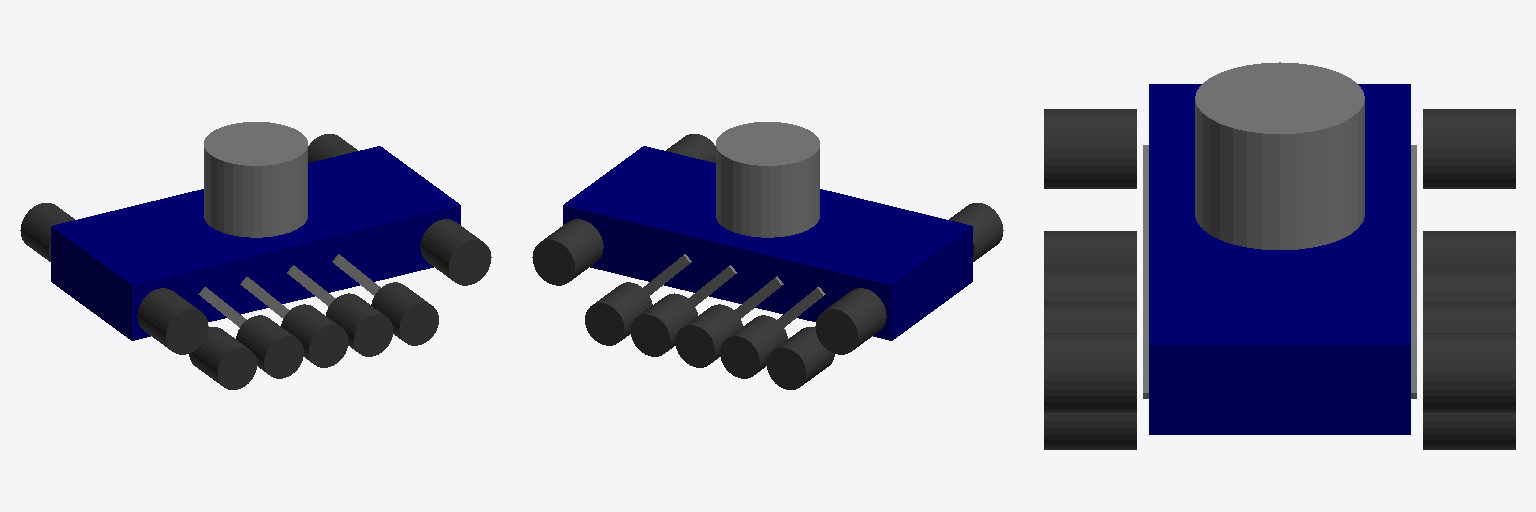
--- What the picture shows (computed from the rendered views, not written in the file) ---
3 views of the same robot in one strip: view 1: azimuth 30°, elevation 25°; view 2: azimuth 150°, elevation 25°; view 3: azimuth 270°, elevation 25° (orthographic).
Robot: uWABA — 27 links, 26 joints (10 revolute, 2 continuous, 14 fixed); root link base_footprint; default pose: all joints at 0.
Links seen in each view (by area): view 1: base_link, LiDAR_link, right_wheel.006_link, right_wheel_sprocket_link, right_wheel.004_link, right_wheel.005_link, right_wheel.001_link, right_wheel.002_link, right_wheel.003_link, left_wheel.006_link, left_wheel_sprocket_link, right_small_wheels_frame.002_link (+3 smaller); view 2: base_link, LiDAR_link, left_wheel.006_link, left_wheel_sprocket_link, left_wheel.004_link, left_wheel.005_link, left_wheel.001_link, left_wheel.002_link, left_wheel.003_link, right_wheel.006_link, right_wheel_sprocket_link, left_small_wheels_frame.002_link (+3 smaller); view 3: base_link, LiDAR_link, left_wheel.006_link, left_wheel_sprocket_link, right_wheel.006_link, right_wheel_sprocket_link, left_wheel.001_link, left_wheel.005_link, right_wheel.001_link, right_wheel.005_link, left_wheel.004_link, right_wheel.004_link (+4 smaller).
Boxes of the visible links, box(x1,y1,x2,y2) form: base_link: box(51, 146, 460, 340); LiDAR_link: box(204, 122, 307, 237); right_wheel.006_link: box(137, 288, 208, 354); right_wheel_sprocket_link: box(420, 219, 491, 285); right_wheel.004_link: box(236, 315, 303, 378); right_wheel.005_link: box(189, 327, 256, 389); right_wheel.001_link: box(371, 282, 438, 345); right_wheel.002_link: box(326, 293, 392, 356); right_wheel.003_link: box(281, 304, 348, 367); left_wheel.006_link: box(20, 203, 74, 261); left_wheel_sprocket_link: box(308, 134, 357, 162); right_small_wheels_frame.002_link: box(240, 276, 289, 318); base_link: box(563, 146, 972, 340); LiDAR_link: box(716, 122, 819, 237); left_wheel.006_link: box(815, 288, 886, 354); left_wheel_sprocket_link: box(532, 219, 603, 285); left_wheel.004_link: box(720, 315, 787, 378); left_wheel.005_link: box(767, 327, 834, 389); left_wheel.001_link: box(585, 282, 652, 345); left_wheel.002_link: box(631, 293, 697, 356); left_wheel.003_link: box(675, 304, 742, 367); right_wheel.006_link: box(949, 203, 1003, 261); right_wheel_sprocket_link: box(666, 134, 715, 162); left_small_wheels_frame.002_link: box(734, 276, 783, 318); base_link: box(1149, 84, 1410, 434); LiDAR_link: box(1195, 62, 1364, 249); left_wheel.006_link: box(1423, 109, 1515, 188); left_wheel_sprocket_link: box(1423, 333, 1515, 412); right_wheel.006_link: box(1044, 109, 1136, 188); right_wheel_sprocket_link: box(1044, 333, 1136, 412); left_wheel.001_link: box(1423, 413, 1515, 449); left_wheel.005_link: box(1423, 231, 1515, 267); right_wheel.001_link: box(1044, 413, 1136, 449); right_wheel.005_link: box(1044, 231, 1136, 267); left_wheel.004_link: box(1423, 268, 1515, 302); right_wheel.004_link: box(1044, 268, 1136, 302).
Bounding box of the posed robot: 0.248 × 0.1896 × 0.1226 m (x, y, z).
Geometry: primitives only (box / cylinder / sphere), no mesh files.

The robot description file, URDF, robot "uWABA":
<robot name="uWABA" version="1.0">
<!-- THIS IS SOME CHANGES -->

  <material name="grey">
    <color rgba="0.5 0.5 0.5 1" />
  </material>

  <material name="blue">
    <color rgba="0 0 0.5 1" />
  </material>

  <material name="black">
    <color rgba="0.25 0.25 0.25 1" />
  </material>

  <joint name="LiDAR_base_joint" type="fixed">
    <origin rpy="0.00000 0.00000 0.00000" xyz="-0.00000 -0.00000 0.04010" />
    <parent link="base_link" />
    <child link="LiDAR_link" />
  </joint>
  <joint name="base_footprint_link_joint" type="fixed">
    <origin rpy="0.00000 0.00000 0.00000" xyz="0.00000 0.00000 0.03318" />
    <parent link="base_footprint" />
    <child link="base_link" />
  </joint>
  <joint name="left_frame_001_base_joint" type="revolute">
    <limit lower="-0.08727" upper="0.08727" effort="0.00000" velocity="0.00000" />
    <origin rpy="0.00000 0.00000 0.00000" xyz="-0.05400 0.05290 0.00682" />
    <parent link="base_link" />
    <child link="left_small_wheels_frame.001_link" />
    <axis xyz="0.00000 1.00000 0.00000" />
  </joint>
  <joint name="left_frame_002_base_joint" type="revolute">
    <limit lower="-0.08727" upper="0.08727" effort="0.00000" velocity="0.00000" />
    <origin rpy="0.00000 0.00000 0.00000" xyz="-0.02250 0.05290 0.00682" />
    <parent link="base_link" />
    <child link="left_small_wheels_frame.002_link" />
    <axis xyz="0.00000 1.00000 0.00000" />
  </joint>
  <joint name="left_frame_003_base_joint" type="revolute">
    <limit lower="-0.08727" upper="0.08727" effort="0.00000" velocity="0.00000" />
    <origin rpy="0.00000 0.00000 0.00000" xyz="0.01250 0.05290 0.00682" />
    <parent link="base_link" />
    <child link="left_small_wheels_frame.003_link" />
    <axis xyz="0.00000 1.00000 0.00000" />
  </joint>
  <joint name="left_frame_004_base_joint" type="revolute">
    <limit lower="-0.08727" upper="0.08727" effort="0.00000" velocity="0.00000" />
    <origin rpy="0.00000 0.00000 0.00000" xyz="0.04659 0.05290 0.00682" />
    <parent link="base_link" />
    <child link="left_small_wheels_frame.004_link" />
    <axis xyz="0.00000 1.00000 0.00000" />
  </joint>
  <joint name="left_frame_base_joint" type="revolute">
    <limit lower="-0.08727" upper="0.08727" effort="0.00000" velocity="0.00000" />
    <origin rpy="0.00000 0.00000 0.00000" xyz="-0.09000 0.05290 0.00682" />
    <parent link="base_link" />
    <child link="left_small_wheels_frame_link" />
    <axis xyz="0.00000 1.00000 0.00000" />
  </joint>
  <joint name="left_small_wheel_001_joint" type="fixed">
    <origin rpy="0.00000 0.00000 0.00000" xyz="0.02164 0.00480 -0.02274" />
    <parent link="left_small_wheels_frame.004_link" />
    <child link="left_wheel.001_link" />
  </joint>
  <joint name="left_small_wheel_002_joint" type="fixed">
    <origin rpy="0.00000 0.00000 0.00000" xyz="0.02134 0.00480 -0.02274" />
    <parent link="left_small_wheels_frame.003_link" />
    <child link="left_wheel.002_link" />
  </joint>
  <joint name="left_small_wheel_003_joint" type="fixed">
    <origin rpy="0.00000 0.00000 0.00000" xyz="0.02250 0.00480 -0.02274" />
    <parent link="left_small_wheels_frame.002_link" />
    <child link="left_wheel.003_link" />
  </joint>
  <joint name="left_small_wheel_004_joint" type="fixed">
    <origin rpy="0.00000 0.00000 0.00000" xyz="0.02043 0.00480 -0.02274" />
    <parent link="left_small_wheels_frame.001_link" />
    <child link="left_wheel.004_link" />
  </joint>
  <joint name="left_small_wheel_005_joint" type="fixed">
    <origin rpy="0.00000 0.00000 0.00000" xyz="0.02131 0.00480 -0.02274" />
    <parent link="left_small_wheels_frame_link" />
    <child link="left_wheel.005_link" />
  </joint>
  <joint name="left_sprocket_base_joint" type="continuous">
    <limit lower="0.00000" upper="0.00000" effort="0.00000" velocity="0.00000" />
    <origin rpy="0.00000 0.00000 0.00000" xyz="0.10655 0.05770 0.01951" />
    <parent link="base_link" />
    <child link="left_wheel_sprocket_link" />
    <axis xyz="0.00000 1.00000 0.00000" />
  </joint>
  <!-- <joint name="left_treads_base_joint" type="fixed">
    <origin rpy="0.00000 0.00000 0.00000" xyz="-0.00000 0.07658 0.03682" />
    <parent link="base_link" />
    <child link="left_bumped_treads_link" />
  </joint> -->
  <joint name="left_wheel_006_base_joint" type="fixed">
    <origin rpy="0.00000 0.00000 0.00000" xyz="-0.10655 0.05770 0.01951" />
    <parent link="base_link" />
    <child link="left_wheel.006_link" />
  </joint>
  <joint name="right_frame_001_base_joint" type="revolute">
    <limit lower="-0.08727" upper="0.08727" effort="0.00000" velocity="0.00000" />
    <origin rpy="0.00000 0.00000 0.00000" xyz="-0.05400 -0.05290 0.00682" />
    <parent link="base_link" />
    <child link="right_small_wheels_frame.001_link" />
    <axis xyz="0.00000 1.00000 0.00000" />
  </joint>
  <joint name="right_frame_002_base_joint" type="revolute">
    <limit lower="-0.08727" upper="0.08727" effort="0.00000" velocity="0.00000" />
    <origin rpy="0.00000 0.00000 0.00000" xyz="-0.02250 -0.05290 0.00682" />
    <parent link="base_link" />
    <child link="right_small_wheels_frame.002_link" />
    <axis xyz="0.00000 1.00000 0.00000" />
  </joint>
  <joint name="right_frame_003_base_joint" type="revolute">
    <limit lower="-0.08727" upper="0.08727" effort="0.00000" velocity="0.00000" />
    <origin rpy="0.00000 0.00000 0.00000" xyz="0.01250 -0.05290 0.00682" />
    <parent link="base_link" />
    <child link="right_small_wheels_frame.003_link" />
    <axis xyz="0.00000 1.00000 0.00000" />
  </joint>
  <joint name="right_frame_004_base_joint" type="revolute">
    <limit lower="-0.08727" upper="0.08727" effort="0.00000" velocity="0.00000" />
    <origin rpy="0.00000 0.00000 0.00000" xyz="0.04659 -0.05290 0.00682" />
    <parent link="base_link" />
    <child link="right_small_wheels_frame.004_link" />
    <axis xyz="0.00000 1.00000 0.00000" />
  </joint>
  <joint name="right_frame_base_joint" type="revolute">
    <limit lower="-0.08727" upper="0.08727" effort="0.00000" velocity="0.00000" />
    <origin rpy="0.00000 0.00000 0.00000" xyz="-0.09000 -0.05290 0.00682" />
    <parent link="base_link" />
    <child link="right_small_wheels_frame_link" />
    <axis xyz="0.00000 1.00000 0.00000" />
  </joint>
  <joint name="right_small_wheel_001_joint" type="fixed">
    <origin rpy="0.00000 0.00000 0.00000" xyz="0.02164 -0.00480 -0.02274" />
    <parent link="right_small_wheels_frame.004_link" />
    <child link="right_wheel.001_link" />
  </joint>
  <joint name="right_small_wheel_002_joint" type="fixed">
    <origin rpy="0.00000 0.00000 0.00000" xyz="0.02134 -0.00480 -0.02273" />
    <parent link="right_small_wheels_frame.003_link" />
    <child link="right_wheel.002_link" />
  </joint>
  <joint name="right_small_wheel_003_joint" type="fixed">
    <origin rpy="0.00000 0.00000 0.00000" xyz="0.02250 -0.00480 -0.02273" />
    <parent link="right_small_wheels_frame.002_link" />
    <child link="right_wheel.003_link" />
  </joint>
  <joint name="right_small_wheel_004_joint" type="fixed">
    <origin rpy="0.00000 0.00000 0.00000" xyz="0.02043 -0.00480 -0.02274" />
    <parent link="right_small_wheels_frame.001_link" />
    <child link="right_wheel.004_link" />
  </joint>
  <joint name="right_small_wheel_005_joint" type="fixed">
    <origin rpy="0.00000 0.00000 0.00000" xyz="0.02131 -0.00480 -0.02274" />
    <parent link="right_small_wheels_frame_link" />
    <child link="right_wheel.005_link" />
  </joint>
  <joint name="right_sprocket_base_joint" type="continuous">
    <limit lower="0.00000" upper="0.00000" effort="0.00000" velocity="0.00000" />
    <origin rpy="0.00000 0.00000 0.00000" xyz="0.10655 -0.05770 0.01951" />
    <parent link="base_link" />
    <child link="right_wheel_sprocket_link" />
    <axis xyz="0.00000 1.00000 0.00000" />
  </joint>
  <!-- <joint name="right_treads_base_joint" type="fixed">
    <origin rpy="0.00000 0.00000 0.00000" xyz="-0.00000 -0.07625 0.03682" />
    <parent link="base_link" />
    <child link="right_bumped_treads_link" />
  </joint> -->
  <joint name="right_wheel_006_base_joint" type="fixed">
    <origin rpy="0.00000 0.00000 0.00000" xyz="-0.10655 -0.05770 0.01951" />
    <parent link="base_link" />
    <child link="right_wheel.006_link" />
  </joint>
  <link name="LiDAR_link">
    <collision name="LiDAR_collision">
      <origin rpy="0.00000 0.00000 0.00000" xyz="0.00000 -0.00000 0.02580" />
      <geometry>
        <cylinder radius="0.03420" length="0.05160" />
      </geometry>
    </collision>
    <inertial>
      <inertia ixx="0.00051" ixy="0.00000" ixz="0.00000" iyy="0.00051" iyz="0.00000" izz="0.00058" />
      <origin rpy="0.00000 0.00000 0.00000" xyz="0.00000 -0.00000 0.02580" />
      <mass value="1.00000" />
    </inertial>
    <visual name="LiDAR">
      <material name="grey" />
      <origin rpy="0.00000 0.00000 0.00000" xyz="0.00000 -0.00000 0.02580" />
      <geometry>
        <cylinder radius="0.03420" length="0.05160" />
      </geometry>
    </visual>
  </link>
  <link name="base_footprint" />
  <link name="base_link">
    <collision name="base_collision">
      <origin rpy="0.00000 0.00000 0.00000" xyz="0.00000 0.00000 0.02005" />
      <geometry>
        <box size="0.24800 0.10580 0.04010" />
      </geometry>
    </collision>
    <inertial>
      <inertia ixx="0.00107" ixy="0.00000" ixz="0.00000" iyy="0.00526" iyz="0.00000" izz="0.00606" />
      <origin rpy="0.00000 0.00000 0.00000" xyz="0.00000 0.00000 0.02005" />
      <mass value="1.00000" />
    </inertial>
    <visual name="base">
      <material name="blue" />
      <origin rpy="0.00000 0.00000 0.00000" xyz="0.00000 0.00000 0.02005" />
      <geometry>
        <box size="0.24800 0.10580 0.04010" />
      </geometry>
    </visual>
  </link>
  <!-- <link name="left_bumped_treads_link">
    <collision name="left_bumped_treads_collision">
      <origin rpy="0.00000 0.00000 0.00000" xyz="-0.00000 -0.00000 0.00000" />
      <geometry>
        <mesh filename="../meshes/dae/left.tracks.dae" scale="1.00000 1.00000 1.00000" />
      </geometry>
    </collision>
    <visual name="left_bumped_treads">
      <origin rpy="0.00000 0.00000 0.00000" xyz="-0.00000 0.00000 0.00000" />
      <geometry>
        <mesh filename="../meshes/dae/left.tracks.dae" scale="1.00000 1.00000 1.00000" />
      </geometry>
    </visual>
  </link> -->
  <link name="left_small_wheels_frame.001_link">
    <collision name="left_small_wheels_frame.001_collision">
      <origin rpy="3.14159 -0.78540 -3.14159" xyz="0.01131 0.00240 -0.01127" />
      <geometry>
        <box size="0.04944 0.00480 0.00693" />
      </geometry>
    </collision>
    <inertial>
      <inertia ixx="0.00011" ixy="0.00000" ixz="0.00010" iyy="0.00021" iyz="0.00000" izz="0.00011" />
      <origin rpy="0.00000 0.00000 0.00000" xyz="0.00000 0.00000 0.00000" />
      <mass value="1.00000" />
    </inertial>
    <visual name="left_small_wheels_frame.001">
      <material name="grey" />
      <origin rpy="3.14159 -0.78540 -3.14159" xyz="0.00000 0.00000 0.00000" />
      <geometry>
        <box size="0.04944 0.00480 0.00693" />
      </geometry>
    </visual>
  </link>
  <link name="left_small_wheels_frame.002_link">
    <collision name="left_small_wheels_frame.002_collision">
      <origin rpy="3.14159 -0.78540 -3.14159" xyz="0.01166 0.00240 -0.01127" />
      <geometry>
        <box size="0.04944 0.00480 0.00693" />
      </geometry>
    </collision>
    <inertial>
      <inertia ixx="0.00011" ixy="0.00000" ixz="0.00010" iyy="0.00021" iyz="0.00000" izz="0.00011" />
      <origin rpy="0.00000 0.00000 0.00000" xyz="0.00000 0.00000 0.00000" />
      <mass value="1.00000" />
    </inertial>
    <visual name="left_small_wheels_frame.002">
      <material name="grey" />
      <origin rpy="3.14159 -0.78540 -3.14159" xyz="0.00000 0.00000 0.00000" />
      <geometry>
        <box size="0.04944 0.00480 0.00693" />
      </geometry>
    </visual>
  </link>
  <link name="left_small_wheels_frame.003_link">
    <collision name="left_small_wheels_frame.003_collision">
      <origin rpy="3.14159 -0.78540 -3.14159" xyz="0.01172 0.00240 -0.01127" />
      <geometry>
        <box size="0.04944 0.00480 0.00693" />
      </geometry>
    </collision>
    <inertial>
      <inertia ixx="0.00011" ixy="0.00000" ixz="0.00010" iyy="0.00021" iyz="0.00000" izz="0.00011" />
      <origin rpy="0.00000 0.00000 0.00000" xyz="0.00000 0.00000 0.00000" />
      <mass value="1.00000" />
    </inertial>
    <visual name="left_small_wheels_frame.003">
      <material name="grey" />
      <origin rpy="3.14159 -0.78540 -3.14159" xyz="0.00000 0.00000 0.00000" />
      <geometry>
        <box size="0.04944 0.00480 0.00693" />
      </geometry>
    </visual>
  </link>
  <link name="left_small_wheels_frame.004_link">
    <collision name="left_small_wheels_frame.004_collision">
      <origin rpy="-3.14159 -0.78540 3.14159" xyz="0.01136 0.00240 -0.01127" />
      <geometry>
        <box size="0.04944 0.00480 0.00693" />
      </geometry>
    </collision>
    <inertial>
      <inertia ixx="0.00011" ixy="0.00000" ixz="0.00010" iyy="0.00021" iyz="0.00000" izz="0.00011" />
      <origin rpy="0.00000 0.00000 0.00000" xyz="-0.00000 -0.00000 -0.00000" />
      <mass value="1.00000" />
    </inertial>
    <visual name="left_small_wheels_frame.004">
      <material name="grey" />
      <origin rpy="-3.14159 -0.78540 3.14159" xyz="-0.00000 -0.00000 -0.00000" />
      <geometry>
        <box size="0.04944 0.00480 0.00693" />
      </geometry>
    </visual>
  </link>
  <link name="left_small_wheels_frame_link">
    <collision name="left_small_wheels_frame_collision">
      <origin rpy="3.14159 -0.78540 3.14159" xyz="0.01094 0.00240 -0.01127" />
      <geometry>
        <box size="0.04003 0.00480 0.00693" />
      </geometry>
    </collision>
    <inertial>
      <inertia ixx="0.00007" ixy="0.00000" ixz="0.00006" iyy="0.00014" iyz="0.00000" izz="0.00007" />
      <origin rpy="0.00000 0.00000 0.00000" xyz="0.00000 0.00000 0.00000" />
      <mass value="1.00000" />
    </inertial>
    <visual name="left_small_wheels_frame">
      <material name="grey" />
      <origin rpy="3.14159 -0.78540 3.14159" xyz="0.00000 0.00000 0.00000" />
      <geometry>
        <box size="0.04003 0.00480 0.00693" />
      </geometry>
    </visual>
  </link>
  <link name="left_wheel.001_link">
    <collision name="left_wheel.001_collision">
      <origin rpy="-1.57080 0.00000 0.00000" xyz="-0.00000 0.01855 0.00000" />
      <geometry>
        <cylinder radius="0.01500" length="0.03710" />
      </geometry>
    </collision>
    <inertial>
      <inertia ixx="0.00017" ixy="0.00000" ixz="0.00000" iyy="0.00011" iyz="-0.00000" izz="0.00017" />
      <origin rpy="0.00000 0.00000 0.00000" xyz="-0.00000 0.01855 0.00000" />
      <mass value="1.00000" />
    </inertial>
    <visual name="left_wheel.001">
      <material name="black" />
      <origin rpy="-1.57080 0.00000 0.00000" xyz="-0.00000 0.01855 0.00000" />
      <geometry>
        <cylinder radius="0.01500" length="0.03710" />
      </geometry>
    </visual>
  </link>
  <link name="left_wheel.002_link">
    <collision name="left_wheel.002_collision">
      <origin rpy="-1.57080 0.00000 0.00000" xyz="0.00000 0.01855 0.00000" />
      <geometry>
        <cylinder radius="0.01500" length="0.03710" />
      </geometry>
    </collision>
    <inertial>
      <inertia ixx="0.00017" ixy="0.00000" ixz="0.00000" iyy="0.00011" iyz="-0.00000" izz="0.00017" />
      <origin rpy="0.00000 0.00000 0.00000" xyz="0.00000 0.01855 0.00000" />
      <mass value="1.00000" />
    </inertial>
    <visual name="left_wheel.002">
      <material name="black" />
      <origin rpy="-1.57080 0.00000 0.00000" xyz="0.00000 0.01855 0.00000" />
      <geometry>
        <cylinder radius="0.01500" length="0.03710" />
      </geometry>
    </visual>
  </link>
  <link name="left_wheel.003_link">
    <collision name="left_wheel.003_collision">
      <origin rpy="-1.57080 0.00000 0.00000" xyz="-0.00000 0.01855 0.00000" />
      <geometry>
        <cylinder radius="0.01500" length="0.03710" />
      </geometry>
    </collision>
    <inertial>
      <inertia ixx="0.00017" ixy="0.00000" ixz="0.00000" iyy="0.00011" iyz="-0.00000" izz="0.00017" />
      <origin rpy="0.00000 0.00000 0.00000" xyz="-0.00000 0.01855 0.00000" />
      <mass value="1.00000" />
    </inertial>
    <visual name="left_wheel.003">
      <material name="black" />
      <origin rpy="-1.57080 0.00000 0.00000" xyz="-0.00000 0.01855 0.00000" />
      <geometry>
        <cylinder radius="0.01500" length="0.03710" />
      </geometry>
    </visual>
  </link>
  <link name="left_wheel.004_link">
    <collision name="left_wheel.004_collision">
      <origin rpy="-1.57080 0.00000 0.00000" xyz="-0.00000 0.01855 0.00000" />
      <geometry>
        <cylinder radius="0.01500" length="0.03710" />
      </geometry>
    </collision>
    <inertial>
      <inertia ixx="0.00017" ixy="0.00000" ixz="0.00000" iyy="0.00011" iyz="-0.00000" izz="0.00017" />
      <origin rpy="0.00000 0.00000 0.00000" xyz="-0.00000 0.01855 0.00000" />
      <mass value="1.00000" />
    </inertial>
    <visual name="left_wheel.004">
      <material name="black" />
      <origin rpy="-1.57080 0.00000 0.00000" xyz="-0.00000 0.01855 0.00000" />
      <geometry>
        <cylinder radius="0.01500" length="0.03710" />
      </geometry>
    </visual>
  </link>
  <link name="left_wheel.005_link">
    <collision name="left_wheel.005_collision">
      <origin rpy="-1.57080 0.00000 0.00000" xyz="0.00000 0.01855 0.00000" />
      <geometry>
        <cylinder radius="0.01500" length="0.03710" />
      </geometry>
    </collision>
    <inertial>
      <inertia ixx="0.00017" ixy="0.00000" ixz="0.00000" iyy="0.00011" iyz="-0.00000" izz="0.00017" />
      <origin rpy="0.00000 0.00000 0.00000" xyz="0.00000 0.01855 0.00000" />
      <mass value="1.00000" />
    </inertial>
    <visual name="left_wheel.005">
      <material name="black" />
      <origin rpy="-1.57080 0.00000 0.00000" xyz="0.00000 0.01855 0.00000" />
      <geometry>
        <cylinder radius="0.01500" length="0.03710" />
      </geometry>
    </visual>
  </link>
  <link name="left_wheel.006_link">
    <collision name="left_wheel.006_collision">
      <origin rpy="-1.57080 0.00000 0.00000" xyz="0.00000 0.01855 0.00000" />
      <geometry>
        <cylinder radius="0.01610" length="0.03710" />
      </geometry>
    </collision>
    <inertial>
      <inertia ixx="0.00018" ixy="0.00000" ixz="0.00000" iyy="0.00013" iyz="-0.00000" izz="0.00018" />
      <origin rpy="0.00000 0.00000 0.00000" xyz="0.00000 0.01855 0.00000" />
      <mass value="1.00000" />
    </inertial>
    <visual name="left_wheel.006">
      <material name="black" />
      <origin rpy="-1.57080 0.00000 0.00000" xyz="0.00000 0.01855 0.00000" />
      <geometry>
        <cylinder radius="0.01610" length="0.03710" />
      </geometry>
    </visual>
  </link>
  <link name="left_wheel_sprocket_link">
    <collision name="left_wheel_sprocket_collision">
      <origin rpy="-1.57080 0.00000 0.00000" xyz="0.00000 0.01855 0.00000" />
      <geometry>
        <cylinder radius="0.01610" length="0.03710" />
      </geometry>
    </collision>
    <inertial>
      <inertia ixx="0.00018" ixy="0.00000" ixz="0.00000" iyy="0.00013" iyz="-0.00000" izz="0.00018" />
      <origin rpy="0.00000 0.00000 0.00000" xyz="0.00000 0.01855 0.00000" />
      <mass value="1.00000" />
    </inertial>
    <visual name="left_wheel_sprocket">
      <material name="black" />
      <origin rpy="-1.57080 0.00000 0.00000" xyz="0.00000 0.01855 0.00000" />
      <geometry>
        <cylinder radius="0.01610" length="0.03710" />
      </geometry>
    </visual>
  </link>
  <!-- <link name="right_bumped_treads_link">
    <collision name="right_bumped_treads_collision">
      <origin rpy="0.00000 0.00000 0.00000" xyz="0.00000 0.00000 0.00000" />
      <geometry>
        <mesh filename="../meshes/dae/right.tracks.dae" scale="1.00000 1.00000 1.00000" />
      </geometry>
    </collision>
    <visual name="right_bumped_treads">
      <origin rpy="0.00000 0.00000 0.00000" xyz="0.00000 0.00000 0.00000" />
      <geometry>
        <mesh filename="../meshes/dae/right.tracks.dae" scale="1.00000 1.00000 1.00000" />
      </geometry>
    </visual>
  </link> -->
  <link name="right_small_wheels_frame.001_link">
    <collision name="right_small_wheels_frame.001_collision">
      <origin rpy="3.14159 -0.78540 -3.14159" xyz="0.01131 -0.00240 -0.01127" />
      <geometry>
        <box size="0.04944 0.00480 0.00693" />
      </geometry>
    </collision>
    <inertial>
      <inertia ixx="0.00011" ixy="0.00000" ixz="0.00010" iyy="0.00021" iyz="0.00000" izz="0.00011" />
      <origin rpy="0.00000 0.00000 0.00000" xyz="0.00000 -0.00000 0.00000" />
      <mass value="1.00000" />
    </inertial>
    <visual name="right_small_wheels_frame.001">
      <material name="grey" />
      <origin rpy="3.14159 -0.78540 -3.14159" xyz="0.00000 -0.00000 0.00000" />
      <geometry>
        <box size="0.04944 0.00480 0.00693" />
      </geometry>
    </visual>
  </link>
  <link name="right_small_wheels_frame.002_link">
    <collision name="right_small_wheels_frame.002_collision">
      <origin rpy="3.14159 -0.78540 -3.14159" xyz="0.01166 -0.00240 -0.01127" />
      <geometry>
        <box size="0.04944 0.00480 0.00693" />
      </geometry>
    </collision>
    <inertial>
      <inertia ixx="0.00011" ixy="0.00000" ixz="0.00010" iyy="0.00021" iyz="0.00000" izz="0.00011" />
      <origin rpy="0.00000 0.00000 0.00000" xyz="-0.00000 0.00000 0.00000" />
      <mass value="1.00000" />
    </inertial>
    <visual name="right_small_wheels_frame.002">
      <material name="grey" />
      <origin rpy="3.14159 -0.78540 -3.14159" xyz="-0.00000 0.00000 0.00000" />
      <geometry>
        <box size="0.04944 0.00480 0.00693" />
      </geometry>
    </visual>
  </link>
  <link name="right_small_wheels_frame.003_link">
    <collision name="right_small_wheels_frame.003_collision">
      <origin rpy="3.14159 -0.78540 -3.14159" xyz="0.01172 -0.00240 -0.01127" />
      <geometry>
        <box size="0.04944 0.00480 0.00693" />
      </geometry>
    </collision>
    <inertial>
      <inertia ixx="0.00011" ixy="0.00000" ixz="0.00010" iyy="0.00021" iyz="0.00000" izz="0.00011" />
      <origin rpy="0.00000 0.00000 0.00000" xyz="0.00000 -0.00000 0.00000" />
      <mass value="1.00000" />
    </inertial>
    <visual name="right_small_wheels_frame.003">
      <material name="grey" />
      <origin rpy="3.14159 -0.78540 -3.14159" xyz="0.00000 -0.00000 0.00000" />
      <geometry>
        <box size="0.04944 0.00480 0.00693" />
      </geometry>
    </visual>
  </link>
  <link name="right_small_wheels_frame.004_link">
    <collision name="right_small_wheels_frame.004_collision">
      <origin rpy="-3.14159 -0.78540 3.14159" xyz="0.01136 -0.00240 -0.01127" />
      <geometry>
        <box size="0.04944 0.00480 0.00693" />
      </geometry>
    </collision>
    <inertial>
      <inertia ixx="0.00011" ixy="0.00000" ixz="0.00010" iyy="0.00021" iyz="0.00000" izz="0.00011" />
      <origin rpy="0.00000 0.00000 0.00000" xyz="-0.00000 0.00000 -0.00000" />
      <mass value="1.00000" />
    </inertial>
    <visual name="right_small_wheels_frame.004">
      <material name="grey" />
      <origin rpy="-3.14159 -0.78540 3.14159" xyz="-0.00000 0.00000 -0.00000" />
      <geometry>
        <box size="0.04944 0.00480 0.00693" />
      </geometry>
    </visual>
  </link>
  <link name="right_small_wheels_frame_link">
    <collision name="right_small_wheels_frame_collision">
      <origin rpy="-3.14159 -0.78540 3.14159" xyz="0.01094 -0.00240 -0.01127" />
      <geometry>
        <box size="0.04003 0.00480 0.00693" />
      </geometry>
    </collision>
    <inertial>
      <inertia ixx="0.00007" ixy="0.00000" ixz="0.00006" iyy="0.00014" iyz="0.00000" izz="0.00007" />
      <origin rpy="0.00000 0.00000 0.00000" xyz="0.00000 0.00000 0.00000" />
      <mass value="1.00000" />
    </inertial>
    <visual name="right_small_wheels_frame">
      <material name="grey" />
      <origin rpy="-3.14159 -0.78540 3.14159" xyz="0.00000 0.00000 0.00000" />
      <geometry>
        <box size="0.04003 0.00480 0.00693" />
      </geometry>
    </visual>
  </link>
  <link name="right_wheel.001_link">
    <collision name="right_wheel.001_collision">
      <origin rpy="-1.57080 0.00000 0.00000" xyz="-0.00000 -0.01855 -0.00000" />
      <geometry>
        <cylinder radius="0.01500" length="0.03710" />
      </geometry>
    </collision>
    <inertial>
      <inertia ixx="0.00017" ixy="0.00000" ixz="0.00000" iyy="0.00011" iyz="-0.00000" izz="0.00017" />
      <origin rpy="0.00000 0.00000 0.00000" xyz="-0.00000 -0.01855 -0.00000" />
      <mass value="1.00000" />
    </inertial>
    <visual name="right_wheel.001">
      <material name="black" />
      <origin rpy="-1.57080 0.00000 0.00000" xyz="-0.00000 -0.01855 -0.00000" />
      <geometry>
        <cylinder radius="0.01500" length="0.03710" />
      </geometry>
    </visual>
  </link>
  <link name="right_wheel.002_link">
    <collision name="right_wheel.002_collision">
      <origin rpy="-1.57080 0.00000 0.00000" xyz="-0.00000 -0.01855 -0.00000" />
      <geometry>
        <cylinder radius="0.01500" length="0.03710" />
      </geometry>
    </collision>
    <inertial>
      <inertia ixx="0.00017" ixy="0.00000" ixz="0.00000" iyy="0.00011" iyz="-0.00000" izz="0.00017" />
      <origin rpy="0.00000 0.00000 0.00000" xyz="-0.00000 -0.01855 -0.00000" />
      <mass value="1.00000" />
    </inertial>
    <visual name="right_wheel.002">
      <material name="black" />
      <origin rpy="-1.57080 0.00000 0.00000" xyz="-0.00000 -0.01855 -0.00000" />
      <geometry>
        <cylinder radius="0.01500" length="0.03710" />
      </geometry>
    </visual>
  </link>
  <link name="right_wheel.003_link">
    <collision name="right_wheel.003_collision">
      <origin rpy="-1.57080 0.00000 0.00000" xyz="0.00000 -0.01855 -0.00000" />
      <geometry>
        <cylinder radius="0.01500" length="0.03710" />
      </geometry>
    </collision>
    <inertial>
      <inertia ixx="0.00017" ixy="0.00000" ixz="0.00000" iyy="0.00011" iyz="-0.00000" izz="0.00017" />
      <origin rpy="0.00000 0.00000 0.00000" xyz="0.00000 -0.01855 -0.00000" />
      <mass value="1.00000" />
    </inertial>
    <visual name="right_wheel.003">
      <material name="black" />
      <origin rpy="-1.57080 0.00000 0.00000" xyz="0.00000 -0.01855 -0.00000" />
      <geometry>
        <cylinder radius="0.01500" length="0.03710" />
      </geometry>
    </visual>
  </link>
  <link name="right_wheel.004_link">
    <collision name="right_wheel.004_collision">
      <origin rpy="-1.57080 0.00000 0.00000" xyz="-0.00000 -0.01855 -0.00000" />
      <geometry>
        <cylinder radius="0.01500" length="0.03710" />
      </geometry>
    </collision>
    <inertial>
      <inertia ixx="0.00017" ixy="0.00000" ixz="0.00000" iyy="0.00011" iyz="-0.00000" izz="0.00017" />
      <origin rpy="0.00000 0.00000 0.00000" xyz="0.00000 -0.01855 -0.00000" />
      <mass value="1.00000" />
    </inertial>
    <visual name="right_wheel.004">
      <material name="black" />
      <origin rpy="-1.57080 0.00000 0.00000" xyz="-0.00000 -0.01855 -0.00000" />
      <geometry>
        <cylinder radius="0.01500" length="0.03710" />
      </geometry>
    </visual>
  </link>
  <link name="right_wheel.005_link">
    <collision name="right_wheel.005_collision">
      <origin rpy="-1.57080 0.00000 0.00000" xyz="-0.00000 -0.01855 0.00000" />
      <geometry>
        <cylinder radius="0.01500" length="0.03710" />
      </geometry>
    </collision>
    <inertial>
      <inertia ixx="0.00017" ixy="0.00000" ixz="0.00000" iyy="0.00011" iyz="-0.00000" izz="0.00017" />
      <origin rpy="0.00000 0.00000 0.00000" xyz="0.00000 -0.01855 0.00000" />
      <mass value="1.00000" />
    </inertial>
    <visual name="right_wheel.005">
      <material name="black" />
      <origin rpy="-1.57080 0.00000 0.00000" xyz="-0.00000 -0.01855 0.00000" />
      <geometry>
        <cylinder radius="0.01500" length="0.03710" />
      </geometry>
    </visual>
  </link>
  <link name="right_wheel.006_link">
    <collision name="right_wheel.006_collision">
      <origin rpy="-1.57080 0.00000 0.00000" xyz="0.00000 -0.01855 0.00000" />
      <geometry>
        <cylinder radius="0.01610" length="0.03710" />
      </geometry>
    </collision>
    <inertial>
      <inertia ixx="0.00018" ixy="0.00000" ixz="0.00000" iyy="0.00013" iyz="-0.00000" izz="0.00018" />
      <origin rpy="0.00000 0.00000 0.00000" xyz="0.00000 -0.01855 0.00000" />
      <mass value="1.00000" />
    </inertial>
    <visual name="right_wheel.006">
      <material name="black" />
      <origin rpy="-1.57080 0.00000 0.00000" xyz="0.00000 -0.01855 0.00000" />
      <geometry>
        <cylinder radius="0.01610" length="0.03710" />
      </geometry>
    </visual>
  </link>
  <link name="right_wheel_sprocket_link">
    <collision name="right_wheel_sprocket_collision">
      <origin rpy="-1.57080 0.00000 0.00000" xyz="0.00000 -0.01855 0.00000" />
      <geometry>
        <cylinder radius="0.01610" length="0.03710" />
      </geometry>
    </collision>
    <inertial>
      <inertia ixx="0.00018" ixy="0.00000" ixz="0.00000" iyy="0.00013" iyz="-0.00000" izz="0.00018" />
      <origin rpy="0.00000 0.00000 0.00000" xyz="0.00000 -0.01855 0.00000" />
      <mass value="1.00000" />
    </inertial>
    <visual name="right_wheel_sprocket">
      <material name="black" />
      <origin rpy="-1.57080 0.00000 0.00000" xyz="0.00000 -0.01855 0.00000" />
      <geometry>
        <cylinder radius="0.01610" length="0.03710" />
      </geometry>
    </visual>
  </link>
</robot>
